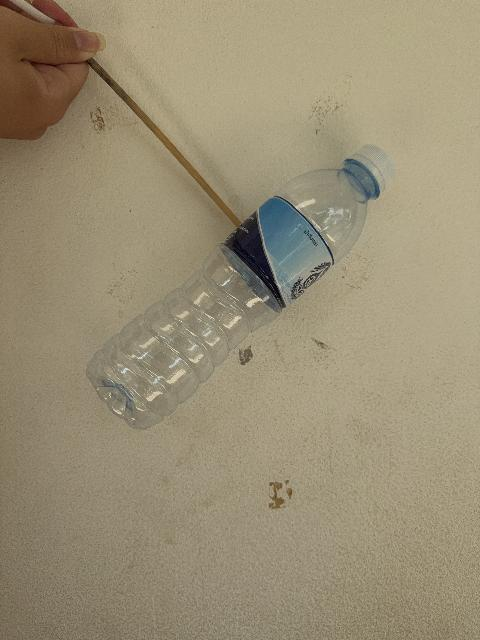bottle: (87, 145, 395, 428)
